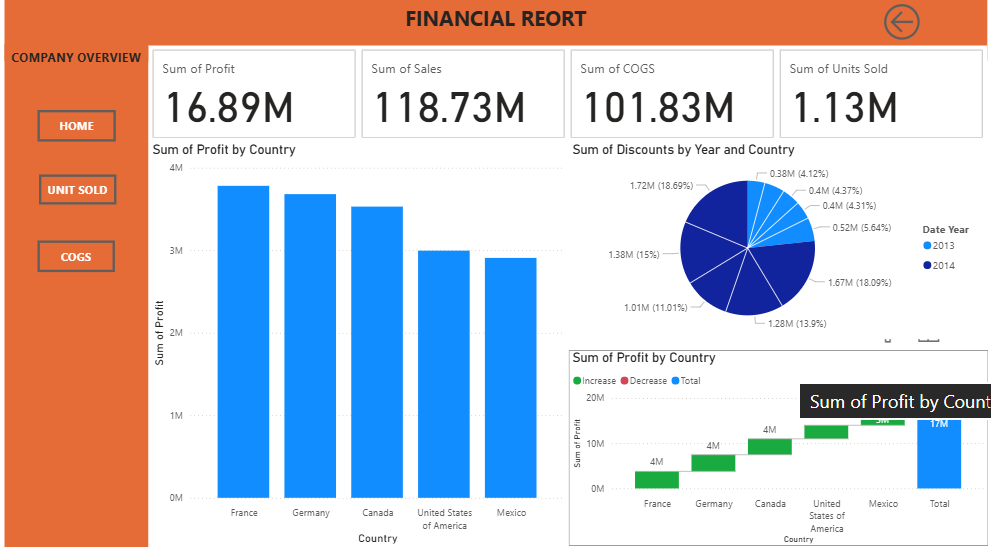

Layout of this report page (visuals, bound fields, positions):
{"tool":"powerbi","page":{"name":"PROFIT","canvas":[1280,720],"ordinal":1},"visuals":[{"type":"textbox","box":[9.7,0,1259.8,79.3],"z":0},{"type":"textbox","box":[9.7,58.3,184.6,662.3],"z":1000},{"type":"actionButton","box":[51.8,142.5,100.4,40.5],"z":2000},{"type":"waterfallChart","fields":{"Category":["financials.Country"],"Y":["Sum(financials.Profit)"]},"box":[733.2,449.6,538.7,253.2],"z":3000},{"type":"cardVisual","fields":{"Data":["Sum(financials.Profit)","Sum(financials. Sales)","Sum(financials.COGS)","Sum(financials.Units Sold)"]},"box":[194.4,58.7,1075.4,123.5],"z":4000},{"type":"pieChart","fields":{"Category":["financials.Date.Variation.Date Hierarchy.Year"],"Series":["financials.Country"],"Y":["Sum(financials.Discounts)"]},"box":[733.2,182.3,536.7,253.2],"z":5000},{"type":"lineClusteredColumnComboChart","fields":{"Y":["Sum(financials.Profit)"],"Category":["financials.Country"]},"box":[194.4,182.3,538.7,520.5],"z":6000},{"type":"actionButton","box":[54.7,224.8,99.2,38.5],"z":7000},{"type":"actionButton","box":[52.7,309.9,99.2,40.5],"z":8000},{"type":"actionButton","box":[1130.1,0,149.9,58.7],"z":9000}]}

Visuals, with their boxes in screenshot pixels (x1, y1, x2, y2), scaled from the page's 1280x720 canvas onto the 991x547 screenshot:
textbox: box(8, 0, 983, 60)
textbox: box(8, 44, 150, 546)
actionButton: box(40, 108, 118, 139)
waterfallChart - financials.Country x Sum(financials.Profit): box(568, 342, 985, 534)
cardVisual - Sum(financials.Profit) x Sum(financials. Sales): box(151, 45, 983, 138)
pieChart - financials.Date.Variation.Date Hierarchy.Year x financials.Country: box(568, 138, 983, 331)
lineClusteredColumnComboChart - Sum(financials.Profit) x financials.Country: box(151, 138, 568, 534)
actionButton: box(42, 171, 119, 200)
actionButton: box(41, 235, 118, 266)
actionButton: box(875, 0, 990, 45)
